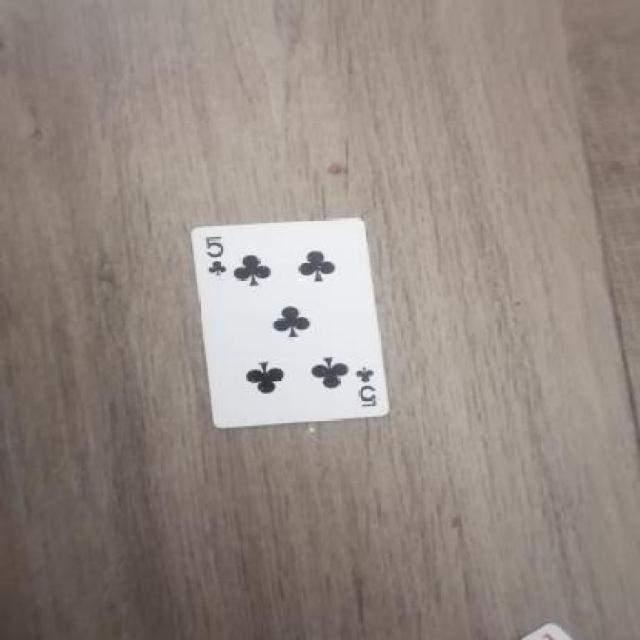5C: (346, 354, 392, 412), (196, 220, 232, 292)
